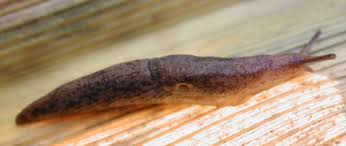slug: (15, 33, 325, 126)
